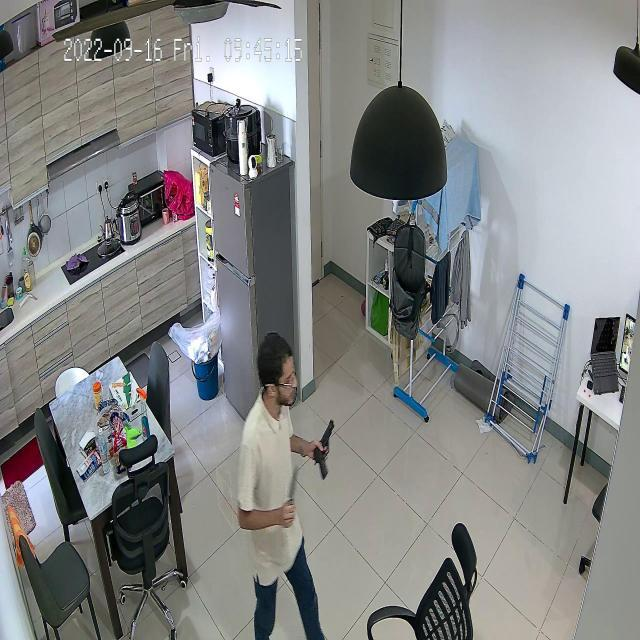Gun: (312, 415, 350, 476)
Knife: (278, 463, 302, 531)
